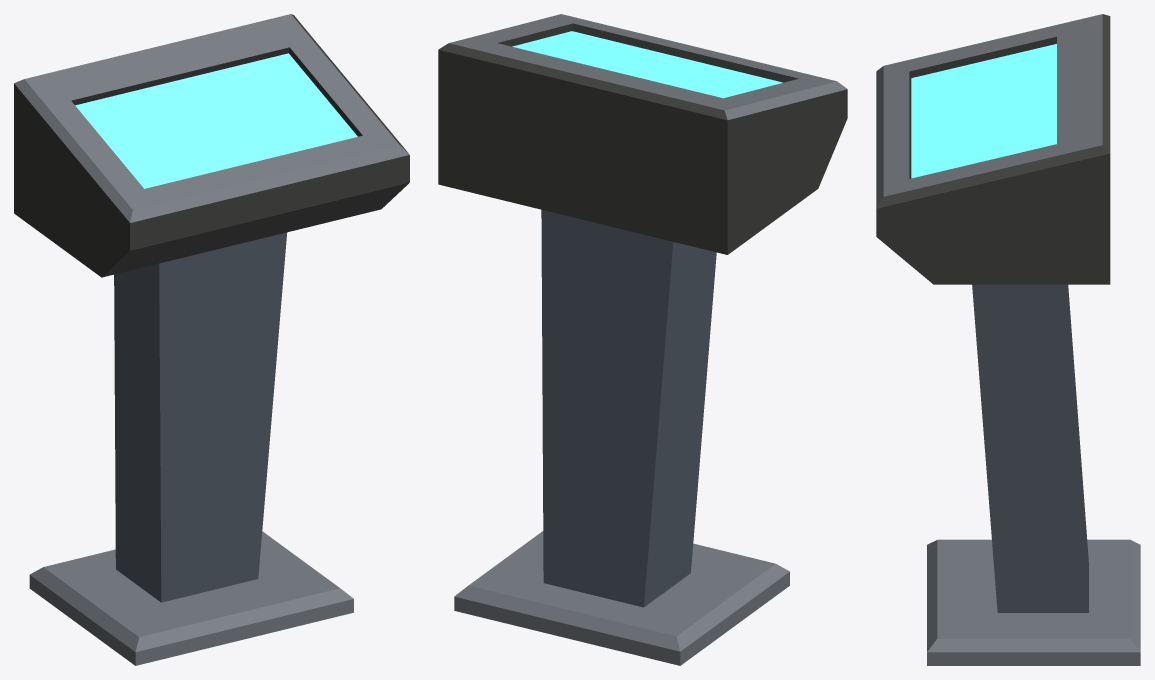
Rendered from standup_console.glb.
3 renders of one model, left to right at view 1: azimuth 30°, elevation 25°; view 2: azimuth 150°, elevation 25°; view 3: azimuth 270°, elevation 25°, orthographic. The views are drawn at different scales.
Parts seen in each view (by area): view 1: standup_console; view 2: standup_console; view 3: standup_console.
Boxes of the visible parts, left/top/right/bottom form: standup_console: left=14, top=14, right=409, bottom=665; standup_console: left=438, top=14, right=847, bottom=665; standup_console: left=876, top=14, right=1140, bottom=665.
Size of the model in its own units: 0.64 by 1.16 by 0.52.
